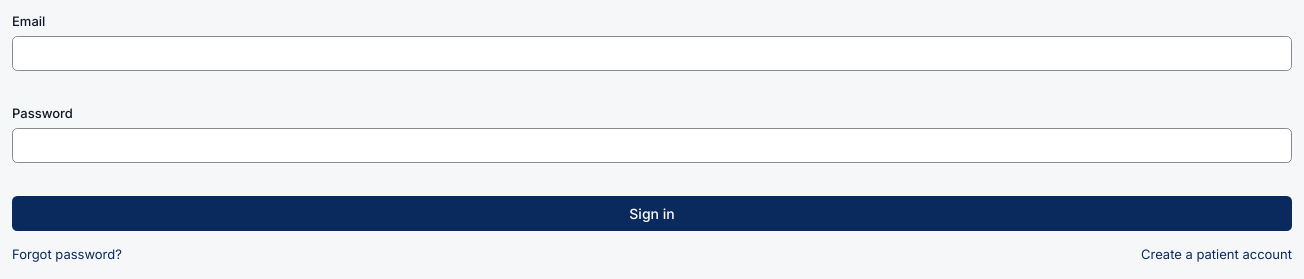
LoginForm › validates on submit and wires the errors to the inputs
Click the button "Sign in".
click(652, 214)  # box [12,196,1292,231]
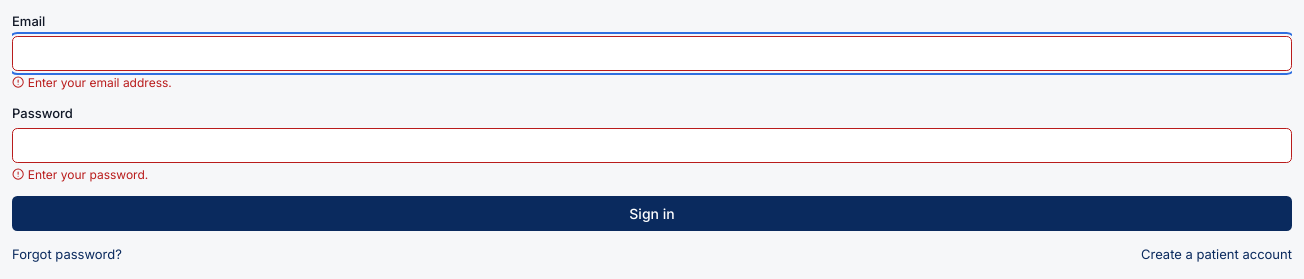
Now the text "Enter your email address." is shown, box [12,75,172,90]
